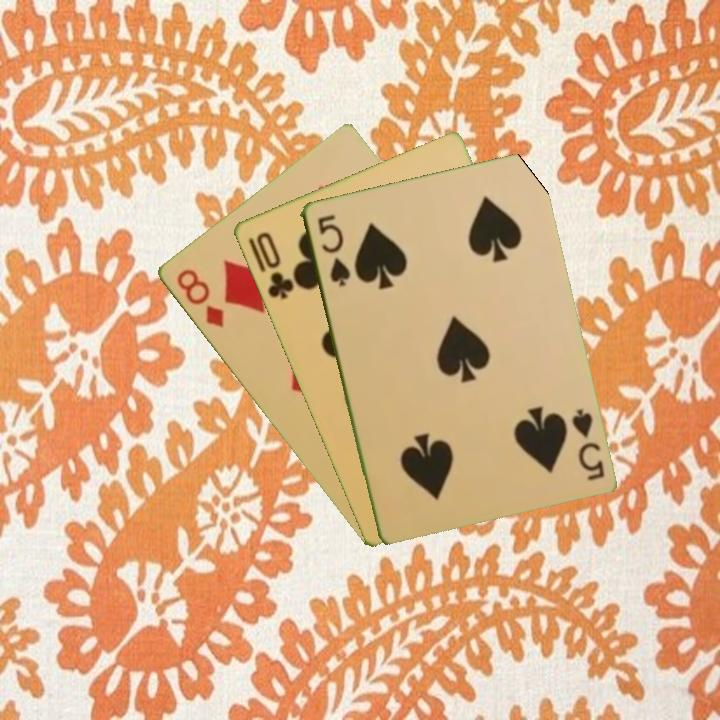10c: (252, 228, 296, 302)
5s: (313, 211, 353, 289), (567, 405, 607, 483)
8d: (172, 265, 227, 331)
